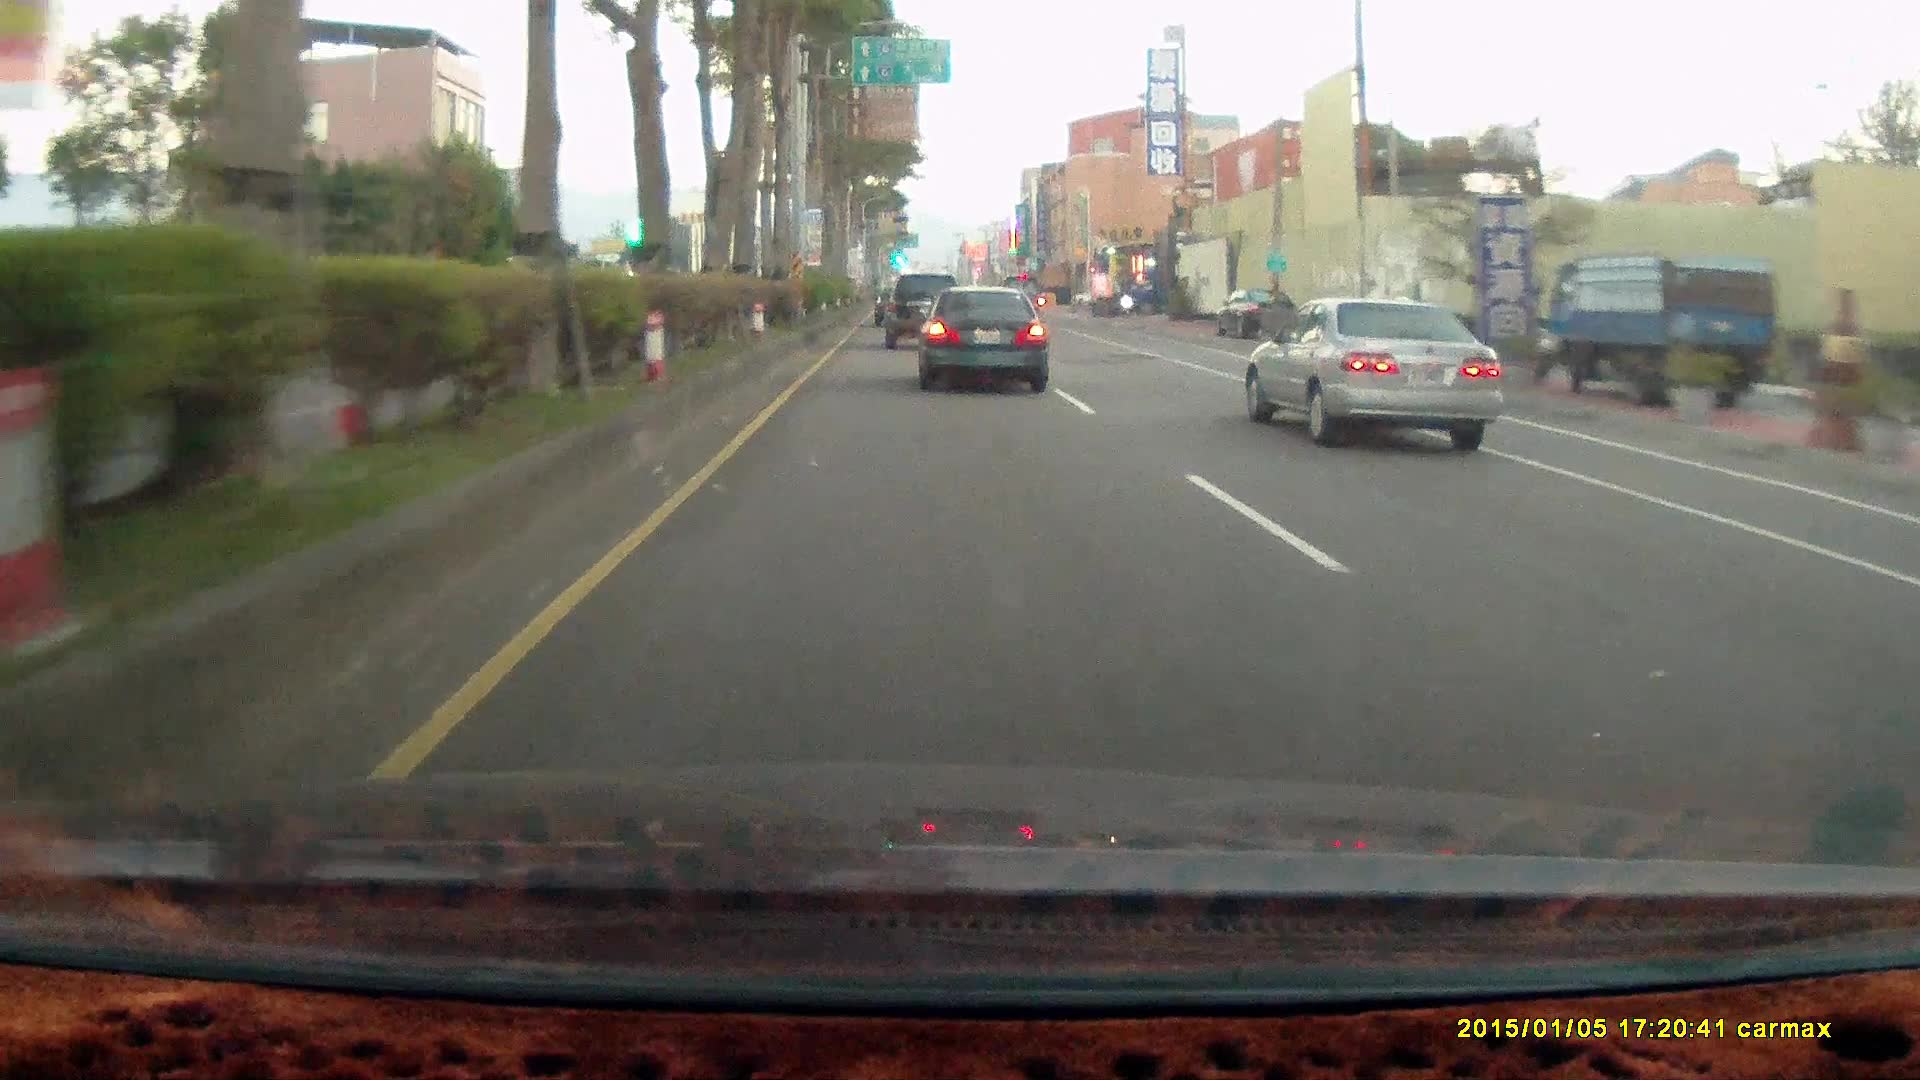vehicle: (1251, 299, 1518, 456), (1242, 295, 1503, 452), (1539, 249, 1785, 413), (1545, 251, 1776, 409), (914, 284, 1048, 390), (916, 289, 1050, 393), (884, 270, 964, 349), (1215, 291, 1300, 343), (1118, 268, 1193, 315)
